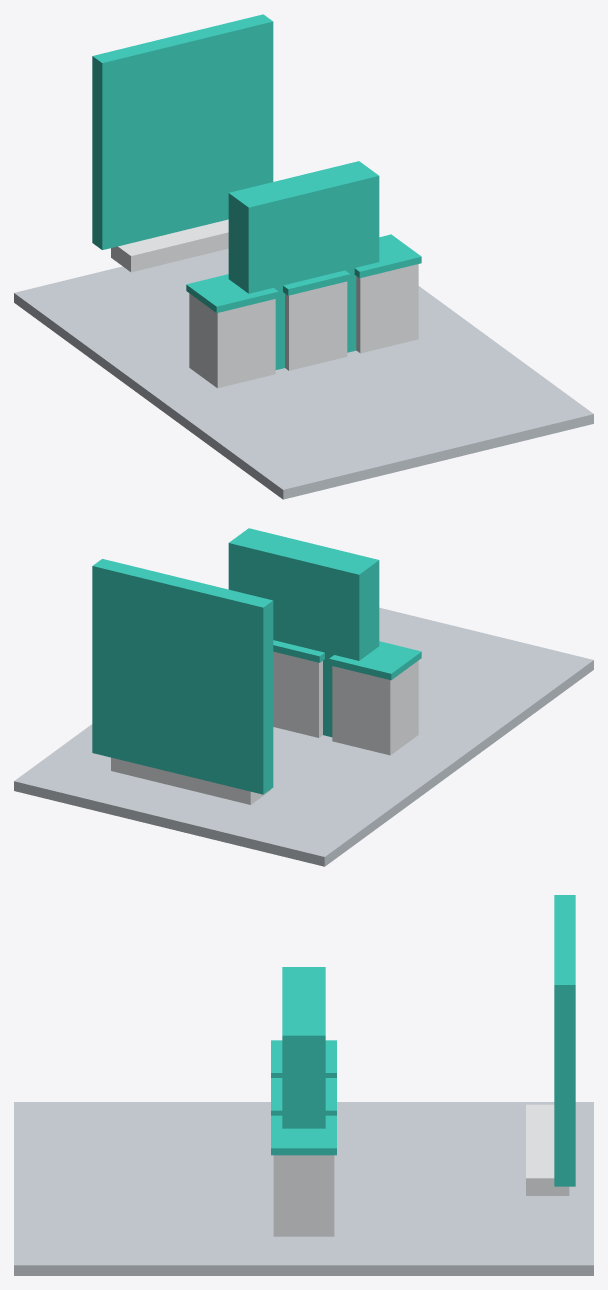
The picture shows the model from 3 angles, top to bottom: view 1: azimuth 30°, elevation 25°; view 2: azimuth 150°, elevation 25°; view 3: azimuth 270°, elevation 25°; orthographic projection. The views are drawn at different scales.
Parts seen in each view (by area): view 1: Exhibition Booth Concept; view 2: Exhibition Booth Concept; view 3: Exhibition Booth Concept.
Part boxes in pixels (left/top/right/bottom): Exhibition Booth Concept: left=14, top=14, right=593, bottom=499; Exhibition Booth Concept: left=14, top=528, right=593, bottom=866; Exhibition Booth Concept: left=14, top=895, right=593, bottom=1275.
Bounding box in the file's own units: 4 × 2.9 × 6.
